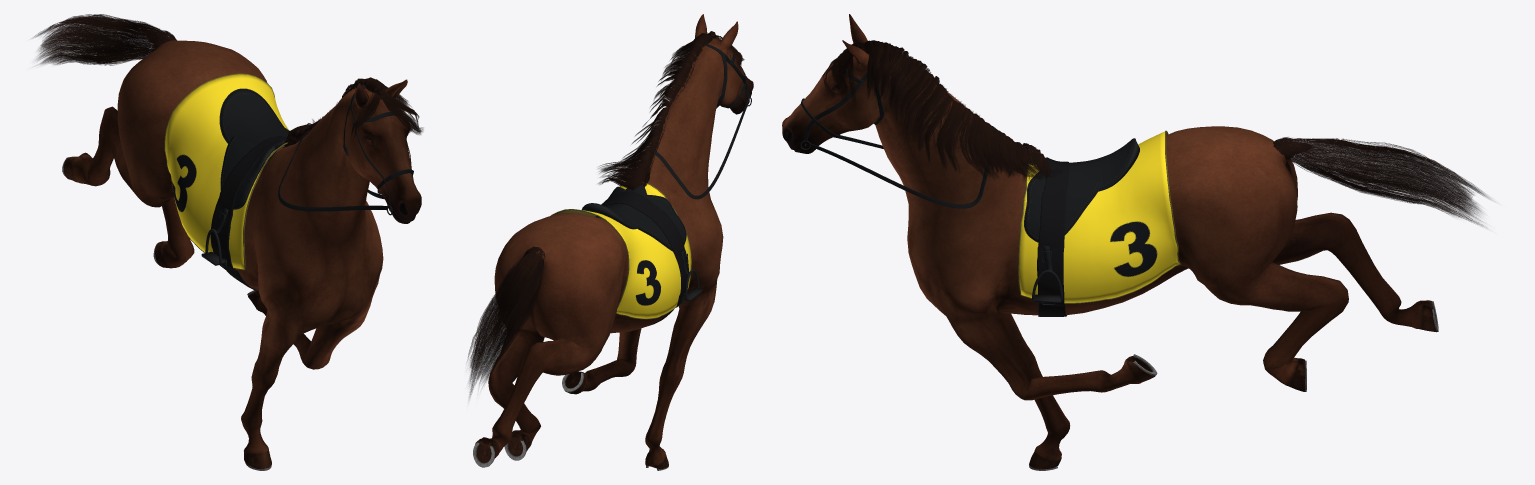
The model's file is chestnut-horse.glb.
3 renders of one model, left to right at view 1: azimuth 30°, elevation 25°; view 2: azimuth 150°, elevation 25°; view 3: azimuth 270°, elevation 25°, orthographic. The views are drawn at different scales.
Visible parts, largest first — view 1: Web Stallion_LOD0, Web Saddlecloth, Web Saddle_LOD0, Web Race Girth • Full Wrap, Web Race Saddle • Right Upper Flap, Web Bridle • Continuous Leather Reins; view 2: Web Stallion_LOD0, Web Saddlecloth, Web Race Girth • Full Wrap, Web Race Saddle • Right Upper Flap, Web Saddle_LOD0, Web Bridle • Continuous Leather Reins, Web Horseshoes_LOD0; view 3: Web Stallion_LOD0, Web Saddlecloth, Web Race Girth • Full Wrap, Web Race Saddle • Left Upper Flap, Web Saddle_LOD0, Web Bridle • Continuous Leather Reins.
Boxes of the visible parts, box(x1,y1,x2,y2) form: Web Stallion_LOD0: box(33, 14, 423, 469); Web Saddlecloth: box(164, 73, 288, 270); Web Saddle_LOD0: box(219, 88, 286, 149); Web Race Girth • Full Wrap: box(210, 136, 286, 291); Web Race Saddle • Right Upper Flap: box(220, 136, 277, 209); Web Bridle • Continuous Leather Reins: box(278, 129, 386, 211); Web Stallion_LOD0: box(467, 14, 753, 469); Web Saddlecloth: box(550, 182, 691, 319); Web Race Girth • Full Wrap: box(601, 191, 688, 325); Web Race Saddle • Right Upper Flap: box(632, 194, 686, 251); Web Saddle_LOD0: box(581, 184, 646, 229); Web Bridle • Continuous Leather Reins: box(641, 102, 747, 199); Web Horseshoes_LOD0: box(473, 372, 668, 470); Web Stallion_LOD0: box(782, 14, 1490, 469); Web Saddlecloth: box(1018, 130, 1181, 303); Web Race Girth • Full Wrap: box(1037, 157, 1069, 316); Web Race Saddle • Left Upper Flap: box(1024, 171, 1101, 242); Web Saddle_LOD0: box(1045, 138, 1139, 191); Web Bridle • Continuous Leather Reins: box(810, 135, 996, 208).
Size of the model in its own units: 0.727 by 2.15 by 3.17.
Materials: 14 (5 with a texture image).
